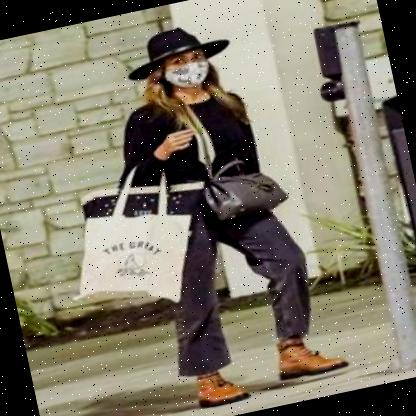bag: (56, 162, 231, 324), (192, 138, 296, 235)
person: (80, 1, 357, 416)
